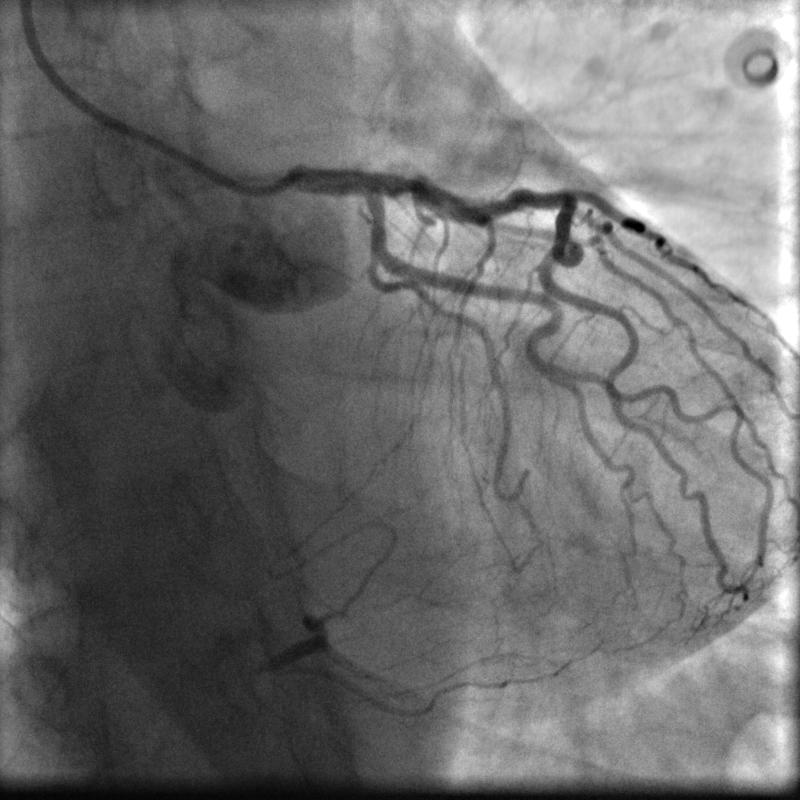Stenosis: (392, 167, 427, 207)
